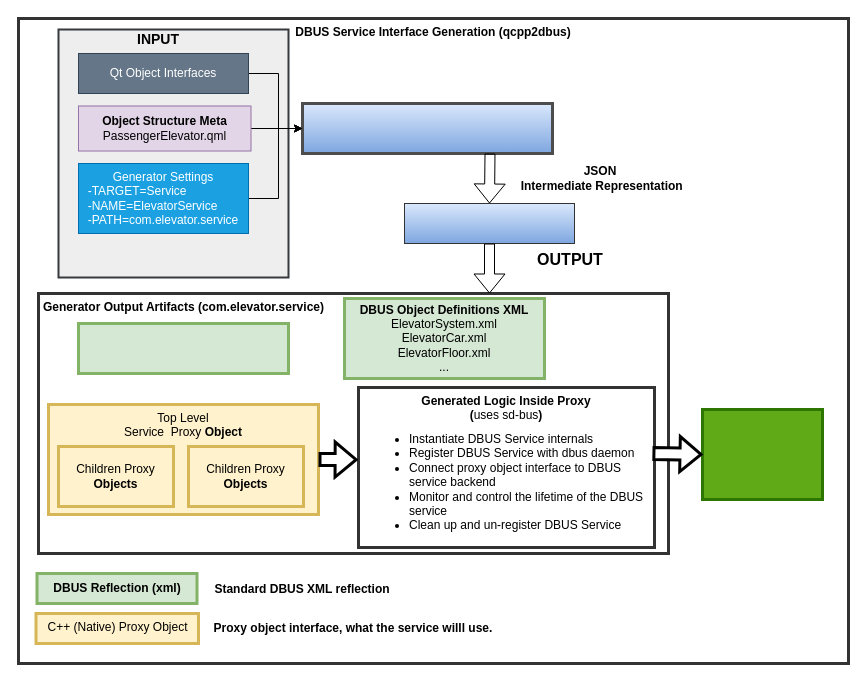
This 867x682 diagram has some shape labels left out. Each missing label, with the centre of its shape:
DBUS Service Definition XML ElevatorService.service: (183,348)
qcpp2dbus ( sd-bus generator plugin): (489,223)
qcpp2ipc: (427,128)
sd-bus (external) library dependency: (762,454)
